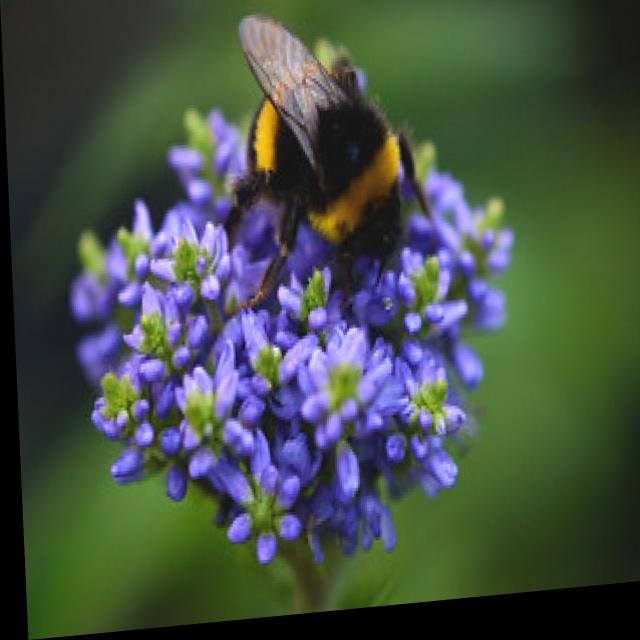Abeille: (222, 0, 467, 332)
